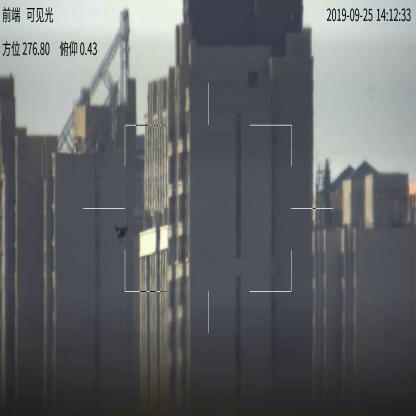uav: (113, 220, 131, 246)
